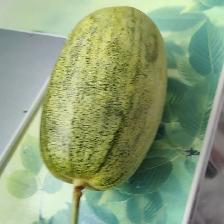gua: (60, 8, 149, 190)
